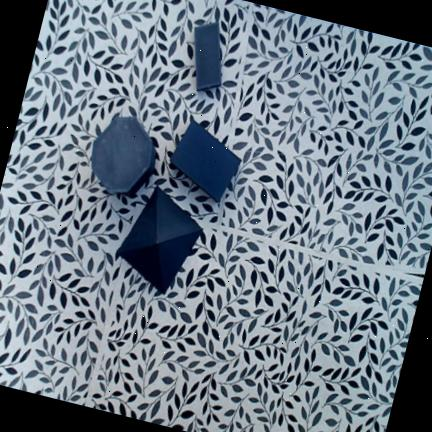Paralelepipedo: (169, 119, 241, 203), (194, 22, 221, 91)
Piramide: (116, 186, 201, 295)
Prisma_hexagonal: (91, 116, 156, 195)
